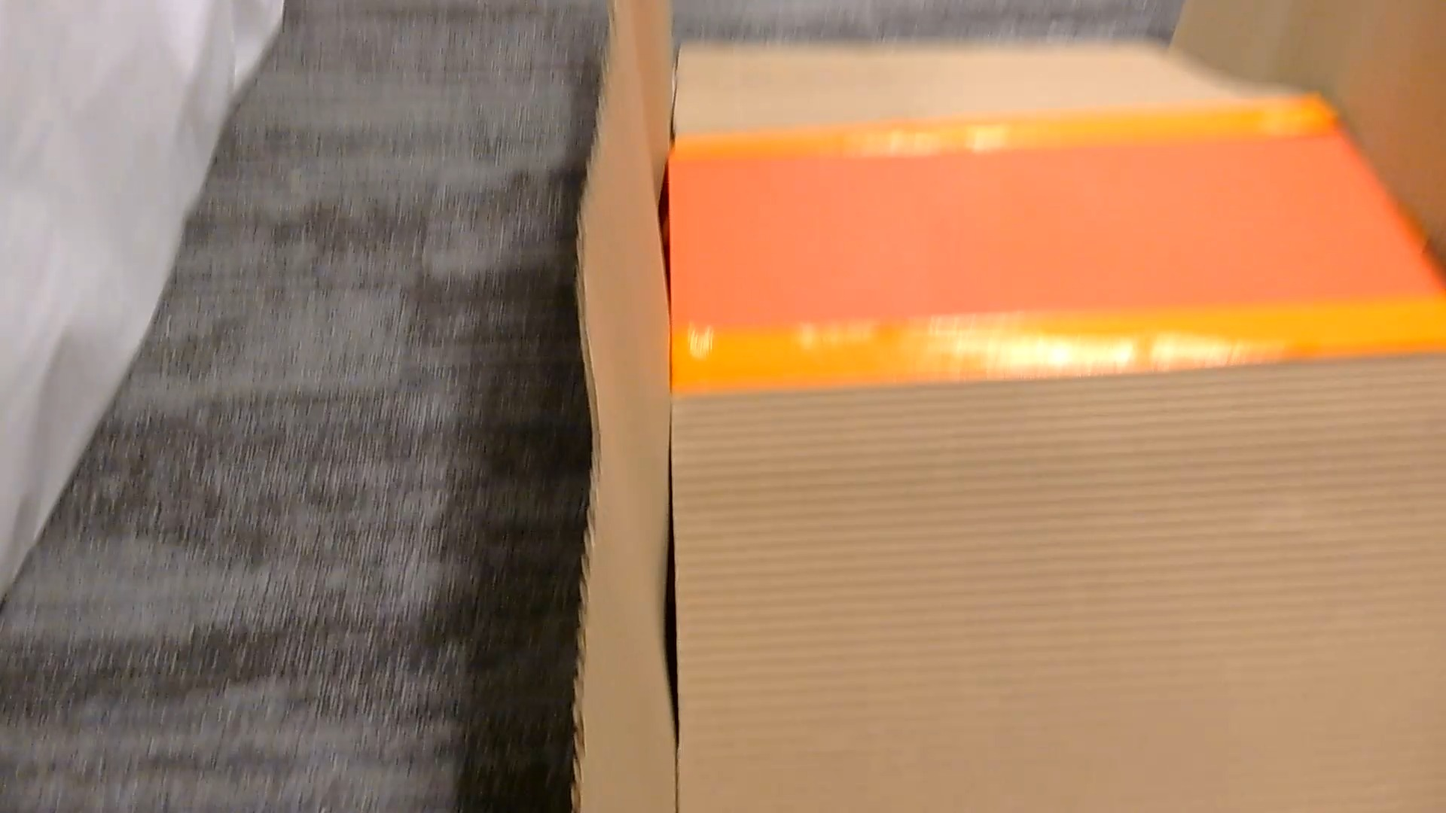Ramp: (573, 0, 1445, 812)
